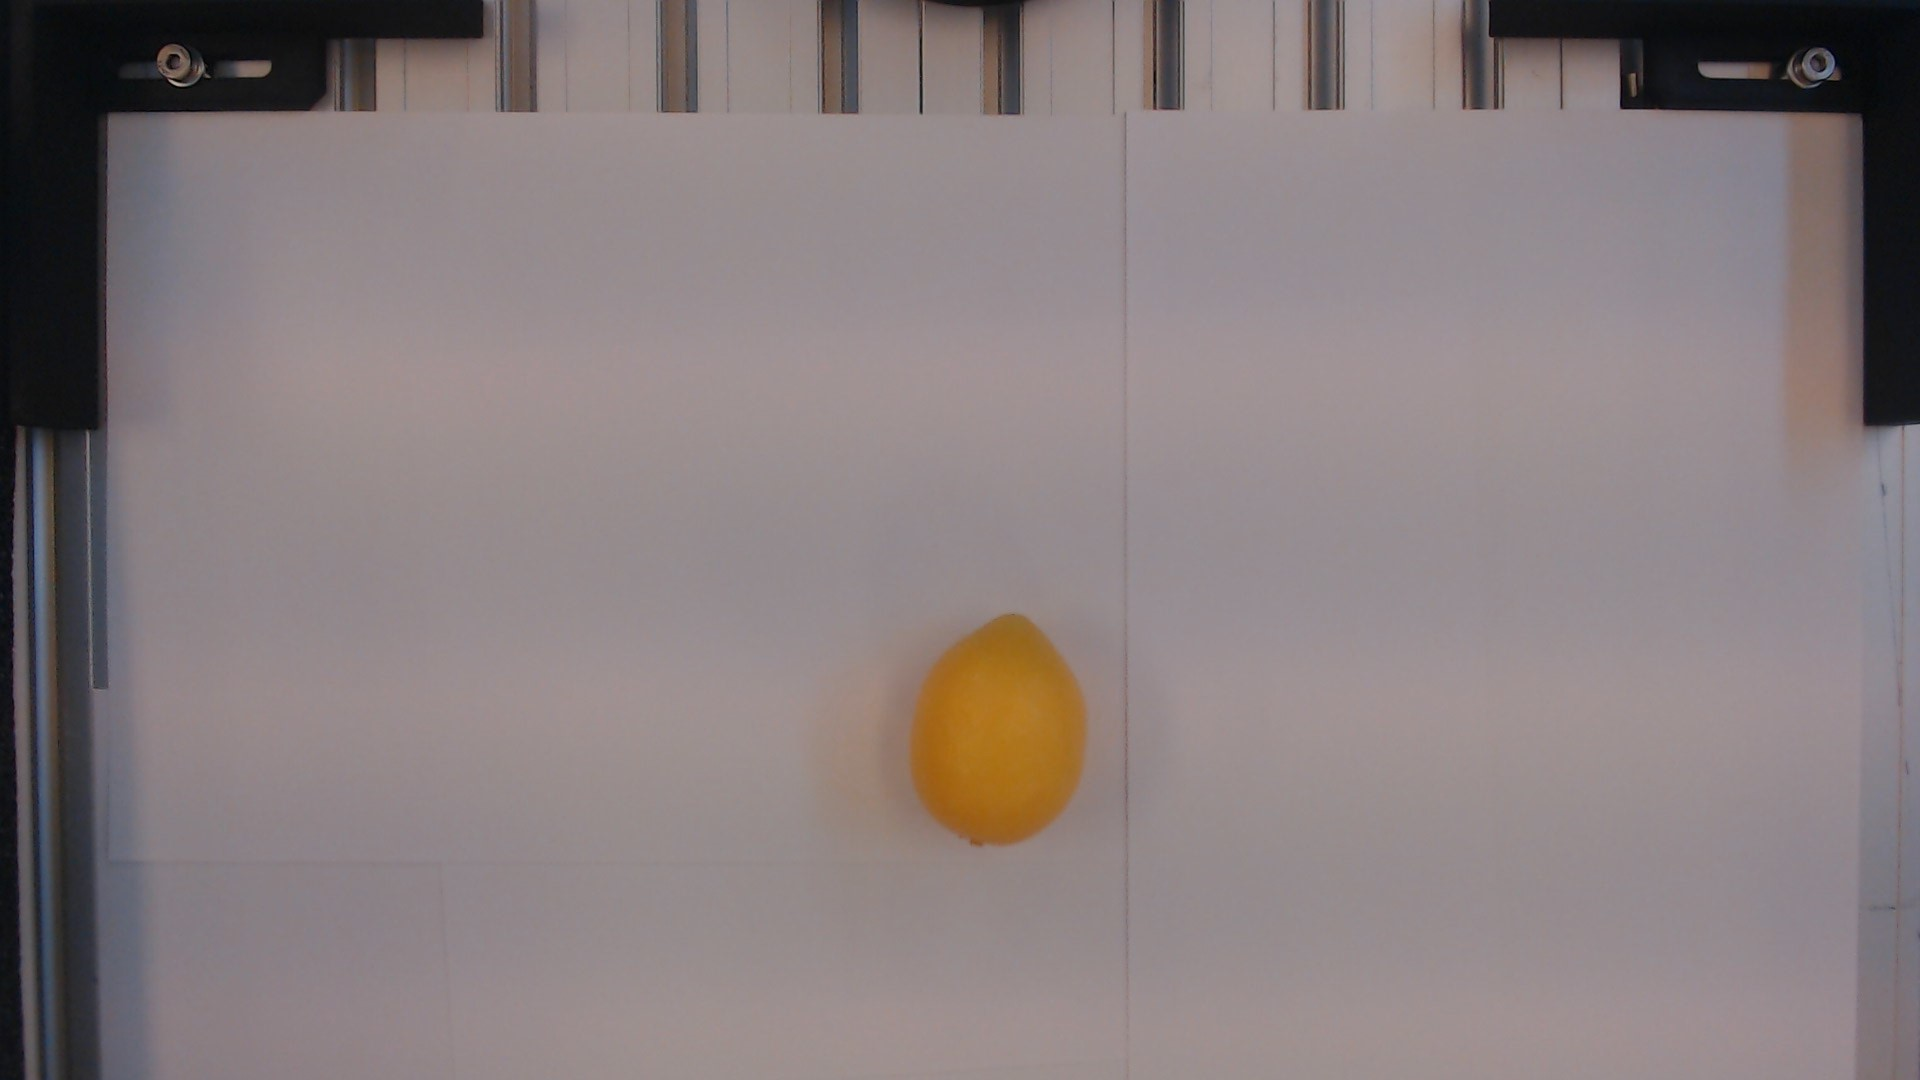Lemon: (907, 608, 1093, 851)
